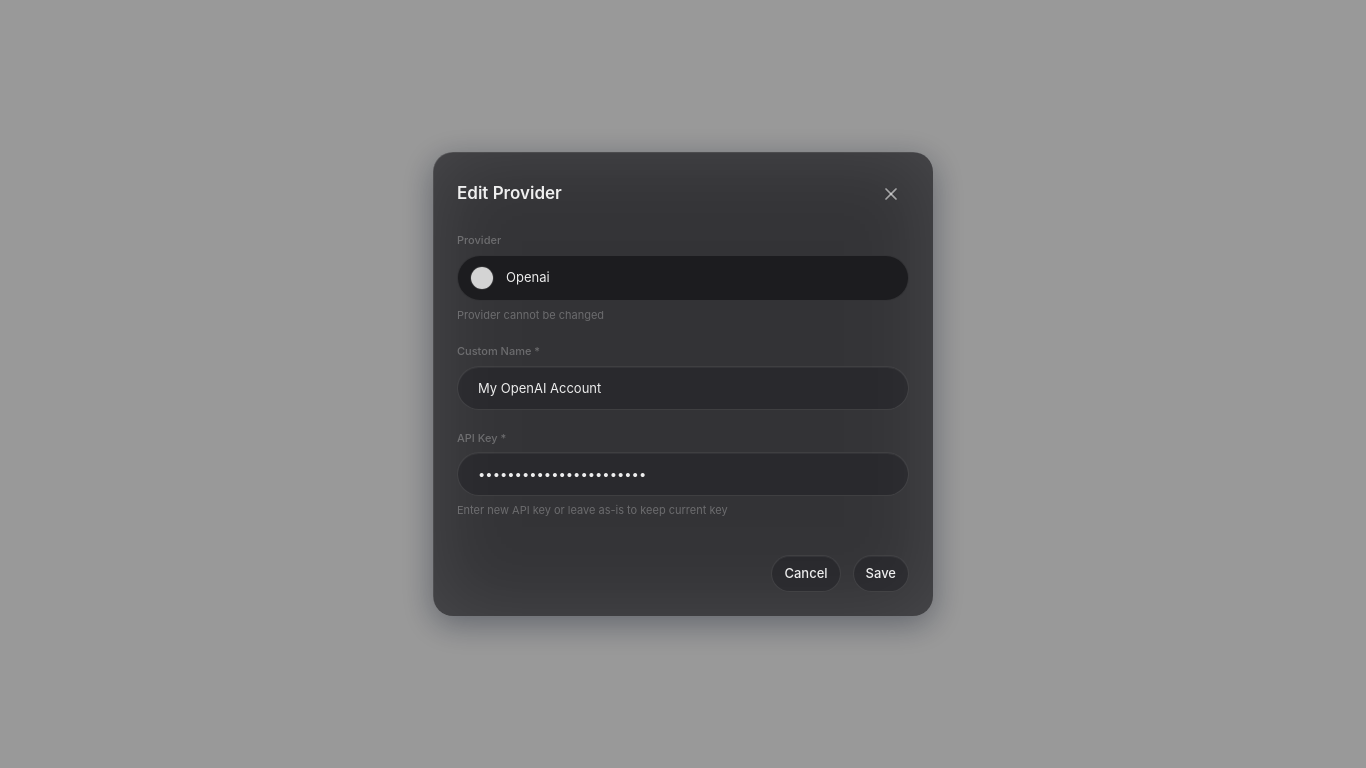
Test: EditProviderModal › Input validation › should show error when custom name is empty
The width and height of the screenshot is (1366, 768).
// Clear custom name
Clear the field labelled "Custom Name *". click: x=683, y=388
box: [457, 366, 909, 410]
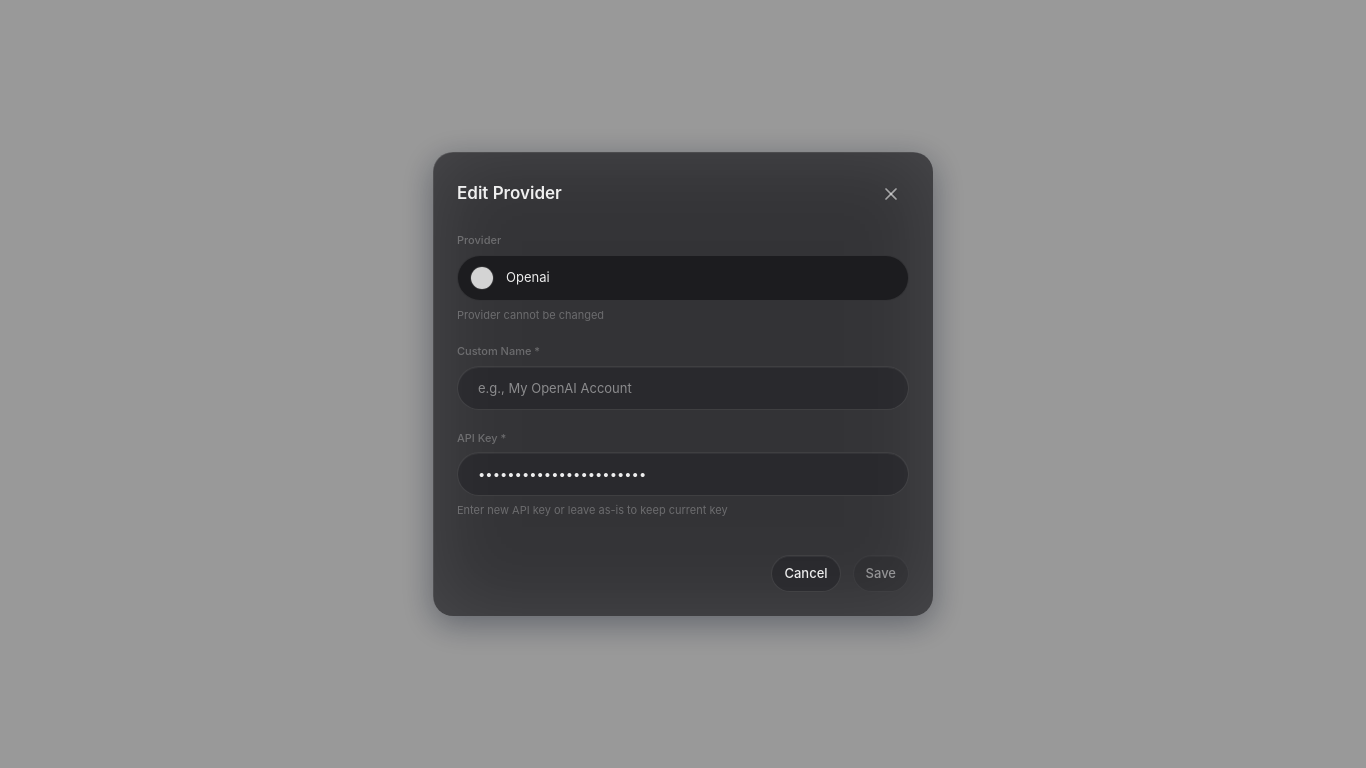
Expected: the button "Save" is disabled, [853, 554, 909, 592]
